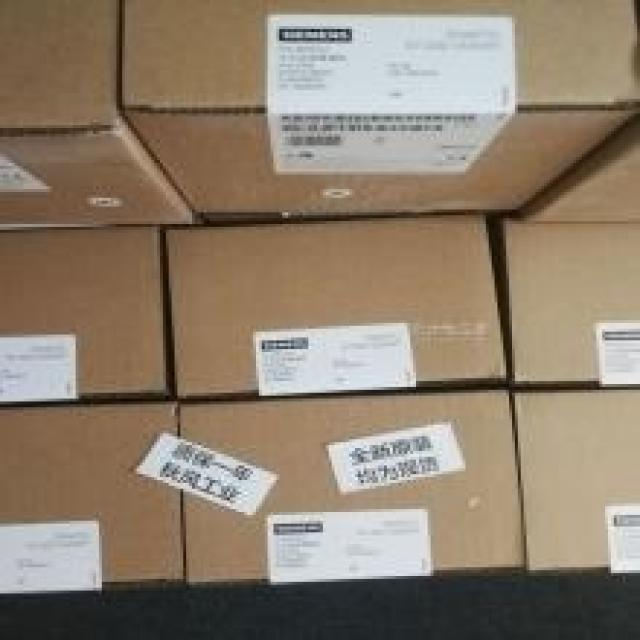box: (122, 0, 640, 215), (177, 390, 527, 585), (163, 212, 506, 396), (0, 401, 183, 593), (0, 227, 172, 404), (500, 218, 640, 387), (515, 390, 640, 573), (524, 113, 640, 221)
